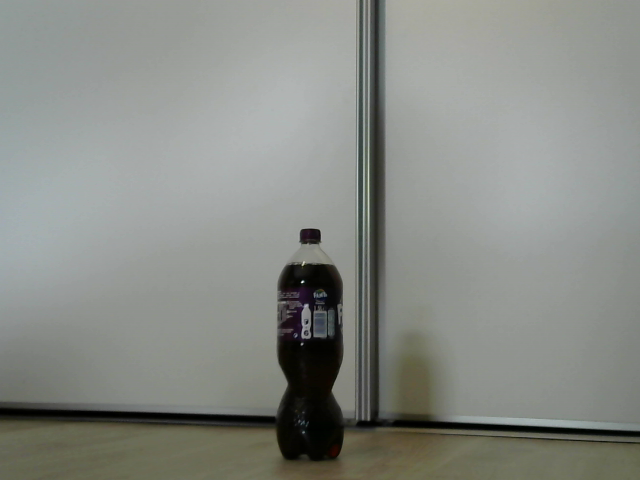bottle: (274, 226, 346, 461)
